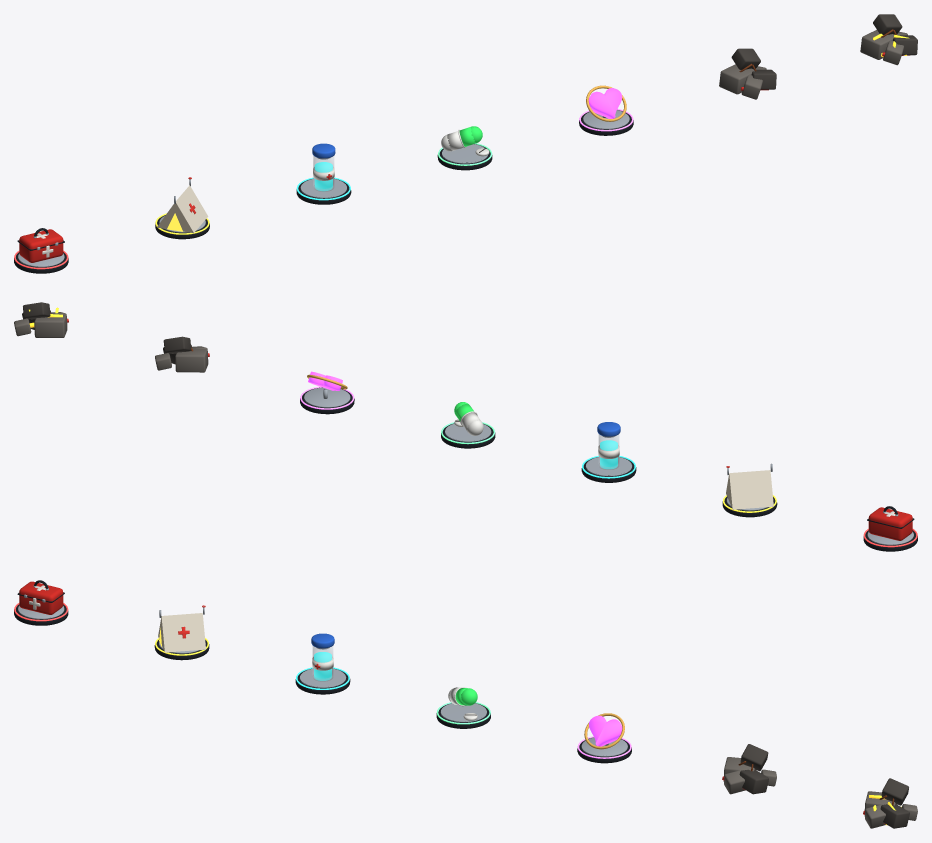
File: sb_match3_secours.glb
3 renders of one model, top to bottom at view 1: azimuth 30°, elevation 25°; view 2: azimuth 150°, elevation 25°; view 3: azimuth 330°, elevation 25°, orthographic.
Visible parts, largest first — view 1: SB_MATCH3_TILE_SEC_CRISTAL, SB_MATCH3_TILE_SEC_ARTEFACT, SB_MATCH3_TILE_SEC_METAL, SB_MATCH3_TILE_SEC_ROCK, SB_MATCH3_TILE_SEC_ROCK_CRACKED, SB_MATCH3_TILE_SEC_ENERGIE, SB_MATCH3_TILE_SEC_BIOMASS; view 2: SB_MATCH3_TILE_SEC_ENERGIE, SB_MATCH3_TILE_SEC_CRISTAL, SB_MATCH3_TILE_SEC_METAL, SB_MATCH3_TILE_SEC_ARTEFACT, SB_MATCH3_TILE_SEC_BIOMASS, SB_MATCH3_TILE_SEC_ROCK, SB_MATCH3_TILE_SEC_ROCK_CRACKED; view 3: SB_MATCH3_TILE_SEC_ENERGIE, SB_MATCH3_TILE_SEC_CRISTAL, SB_MATCH3_TILE_SEC_ARTEFACT, SB_MATCH3_TILE_SEC_METAL, SB_MATCH3_TILE_SEC_ROCK, SB_MATCH3_TILE_SEC_ROCK_CRACKED, SB_MATCH3_TILE_SEC_BIOMASS.
Part boxes in pixels (bbox=[...]): SB_MATCH3_TILE_SEC_CRISTAL: bbox=[296, 143, 351, 204]; SB_MATCH3_TILE_SEC_ARTEFACT: bbox=[579, 85, 633, 135]; SB_MATCH3_TILE_SEC_METAL: bbox=[14, 228, 68, 273]; SB_MATCH3_TILE_SEC_ROCK: bbox=[719, 48, 776, 99]; SB_MATCH3_TILE_SEC_ROCK_CRACKED: bbox=[860, 14, 917, 65]; SB_MATCH3_TILE_SEC_ENERGIE: bbox=[155, 177, 209, 239]; SB_MATCH3_TILE_SEC_BIOMASS: bbox=[437, 126, 492, 170]; SB_MATCH3_TILE_SEC_ENERGIE: bbox=[722, 463, 777, 517]; SB_MATCH3_TILE_SEC_CRISTAL: bbox=[581, 422, 636, 482]; SB_MATCH3_TILE_SEC_METAL: bbox=[863, 506, 917, 551]; SB_MATCH3_TILE_SEC_ARTEFACT: bbox=[300, 371, 354, 414]; SB_MATCH3_TILE_SEC_BIOMASS: bbox=[441, 402, 495, 448]; SB_MATCH3_TILE_SEC_ROCK: bbox=[155, 336, 209, 372]; SB_MATCH3_TILE_SEC_ROCK_CRACKED: bbox=[14, 302, 68, 337]; SB_MATCH3_TILE_SEC_ENERGIE: bbox=[154, 605, 209, 660]; SB_MATCH3_TILE_SEC_CRISTAL: bbox=[295, 633, 350, 694]; SB_MATCH3_TILE_SEC_ARTEFACT: bbox=[577, 713, 631, 763]; SB_MATCH3_TILE_SEC_METAL: bbox=[14, 580, 68, 625]; SB_MATCH3_TILE_SEC_ROCK: bbox=[722, 744, 776, 794]; SB_MATCH3_TILE_SEC_ROCK_CRACKED: bbox=[863, 778, 917, 828]; SB_MATCH3_TILE_SEC_BIOMASS: bbox=[436, 687, 490, 728].
Size of the model in its own units: 8.88 by 0.435 by 0.4919.
